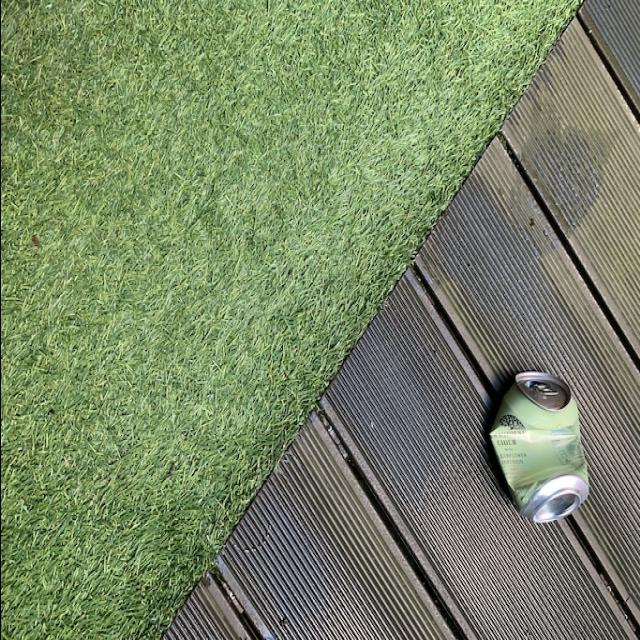Aluminum Can: (480, 376, 592, 528)
